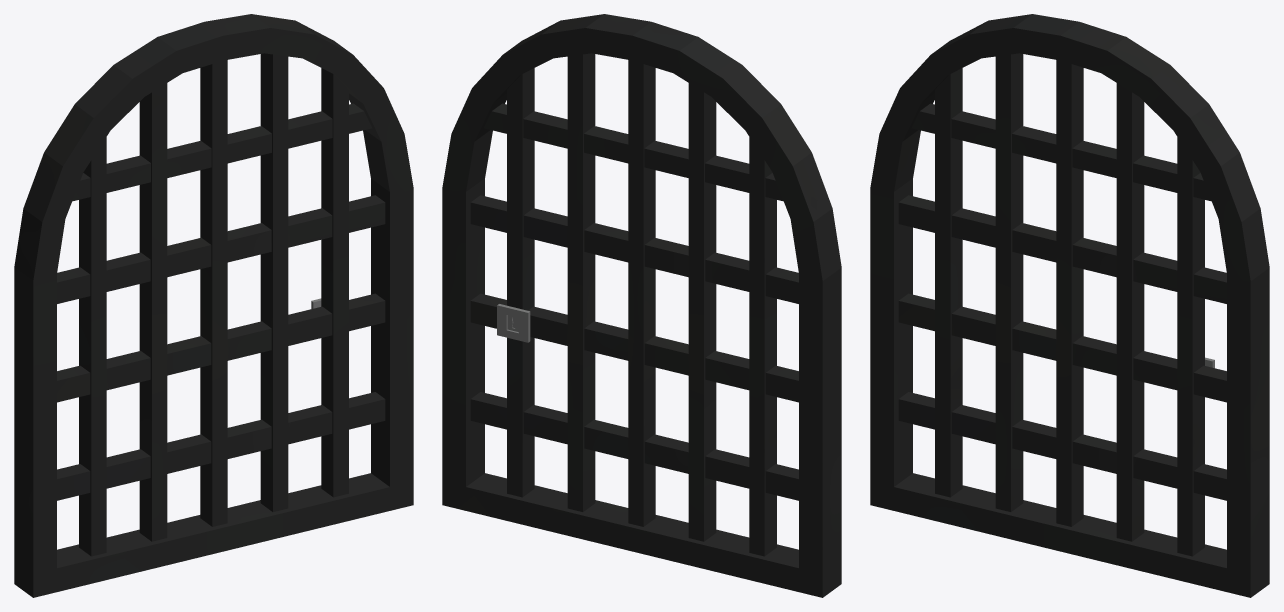
File: Door_2.fbx
3 renders of one model, left to right at view 1: azimuth 30°, elevation 25°; view 2: azimuth 150°, elevation 25°; view 3: azimuth 330°, elevation 25°, orthographic.
Parts seen in each view (by area): view 1: Door 2; view 2: Door 2; view 3: Door 2.
Part boxes in pixels (left/top/right/bottom): Door 2: left=14, top=14, right=413, bottom=597; Door 2: left=442, top=14, right=841, bottom=597; Door 2: left=870, top=14, right=1269, bottom=597.
Bounding box in the file's own units: 157 × 204 × 13.63.
